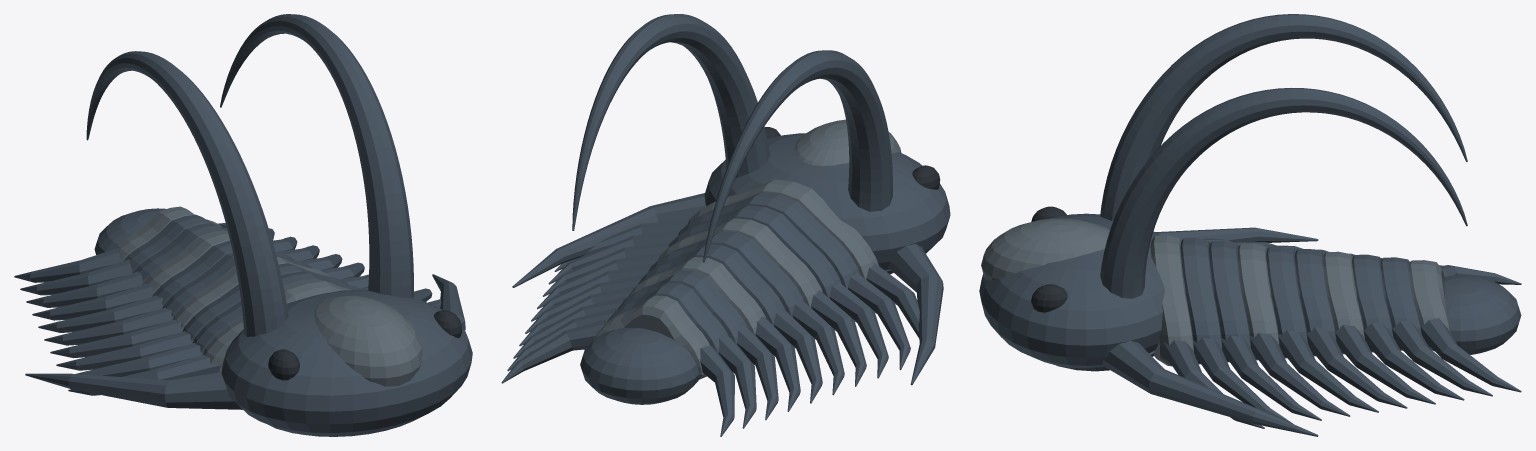
Rendered from dicranurus.glb.
3 views of the same model, side by side, from view 1: azimuth 30°, elevation 25°; view 2: azimuth 150°, elevation 25°; view 3: azimuth 270°, elevation 25° (orthographic). The views are drawn at different scales.
Parts seen in each view (by area): view 1: cephalon-shield-and-glabella, paired-occipital-open-horns, swept-genal-and-pleural-spines, ten-arched-thoracic-plates, pygidial-shield, small-attached-eyes; view 2: swept-genal-and-pleural-spines, ten-arched-thoracic-plates, paired-occipital-open-horns, cephalon-shield-and-glabella, pygidial-shield, small-attached-eyes; view 3: swept-genal-and-pleural-spines, paired-occipital-open-horns, ten-arched-thoracic-plates, cephalon-shield-and-glabella, pygidial-shield, small-attached-eyes.
Part boxes in pixels (box(x1,y1,x2,y2)): cephalon-shield-and-glabella: box(221, 289, 472, 436); paired-occipital-open-horns: box(86, 14, 413, 336); swept-genal-and-pleural-spines: box(14, 223, 465, 409); ten-arched-thoracic-plates: box(113, 206, 361, 372); pygidial-shield: box(94, 208, 165, 254); small-attached-eyes: box(268, 310, 462, 380); swept-genal-and-pleural-spines: box(501, 193, 943, 436); ten-arched-thoracic-plates: box(593, 179, 878, 379); paired-occipital-open-horns: box(572, 14, 892, 262); cephalon-shield-and-glabella: box(704, 119, 950, 274); pygidial-shield: box(580, 328, 698, 404); small-attached-eyes: box(765, 127, 940, 189); swept-genal-and-pleural-spines: box(1102, 227, 1521, 436); paired-occipital-open-horns: box(1100, 14, 1467, 298); ten-arched-thoracic-plates: box(1150, 235, 1450, 366); cephalon-shield-and-glabella: box(979, 213, 1164, 371); pygidial-shield: box(1430, 275, 1521, 354); small-attached-eyes: box(1031, 206, 1067, 312).
Size of the model in its own units: 0.0522 by 0.0364 by 0.0608.
